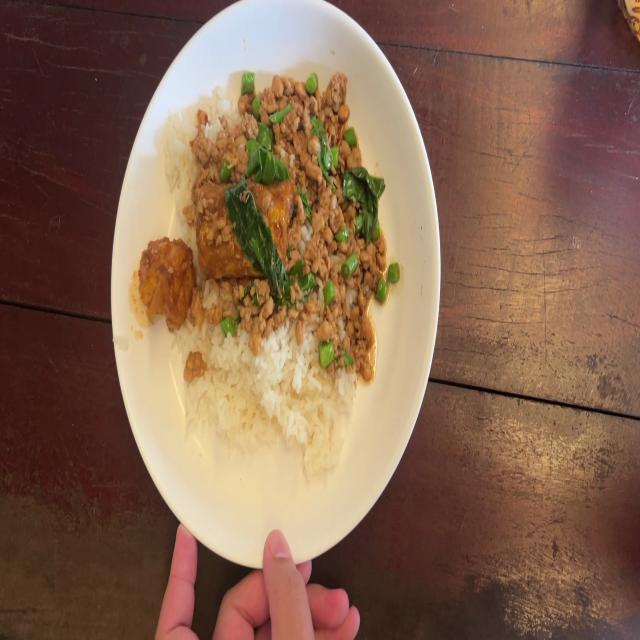01rice: (208, 333, 349, 465)
fried_tofo: (198, 182, 293, 274), (133, 240, 193, 325)
minced_pork: (192, 70, 384, 182), (294, 180, 387, 370), (198, 274, 298, 336)
stir_fried_basil: (143, 68, 389, 479)
